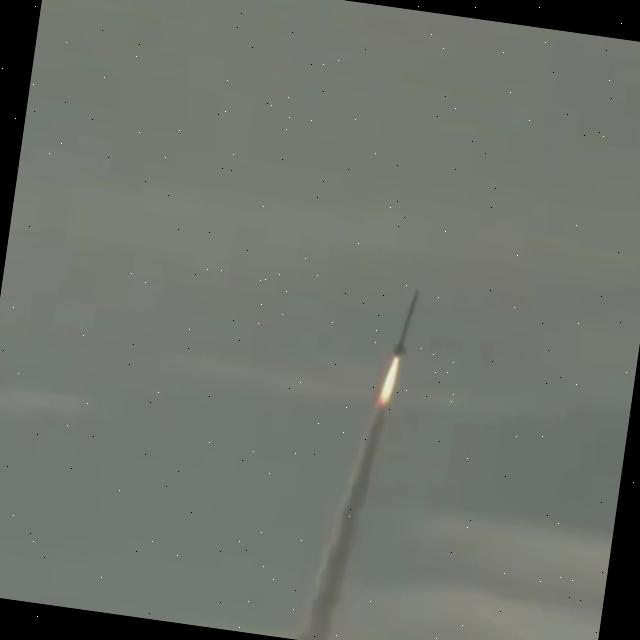smoke_trail_with_rocket: (298, 290, 420, 640)
